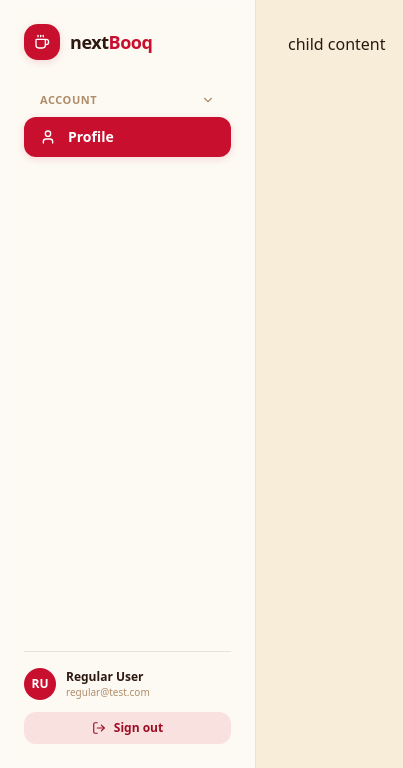
Test: ProfileLayout › collapses the Account nav when its header is clicked
This screenshot has width=403, height=768.
expect the text "child content" is shown: met, box [288,33,386,55]
expect the link "Profile" is shown: met, box [24,116,231,156]
Click the button "Account" at [128, 104], box [24,92,231,116]
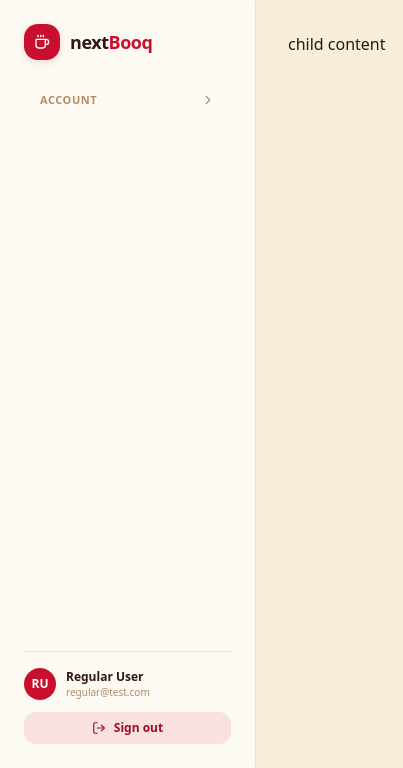
expect the link "Profile" is gone: met
